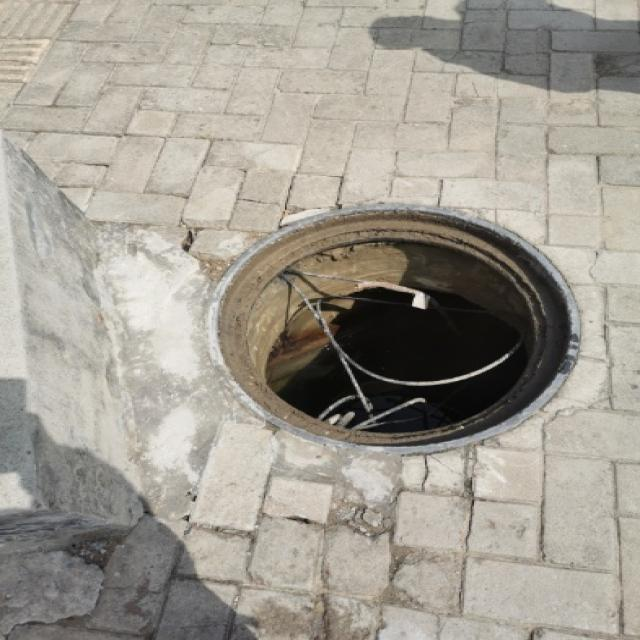Uncovered: (188, 192, 603, 466)
